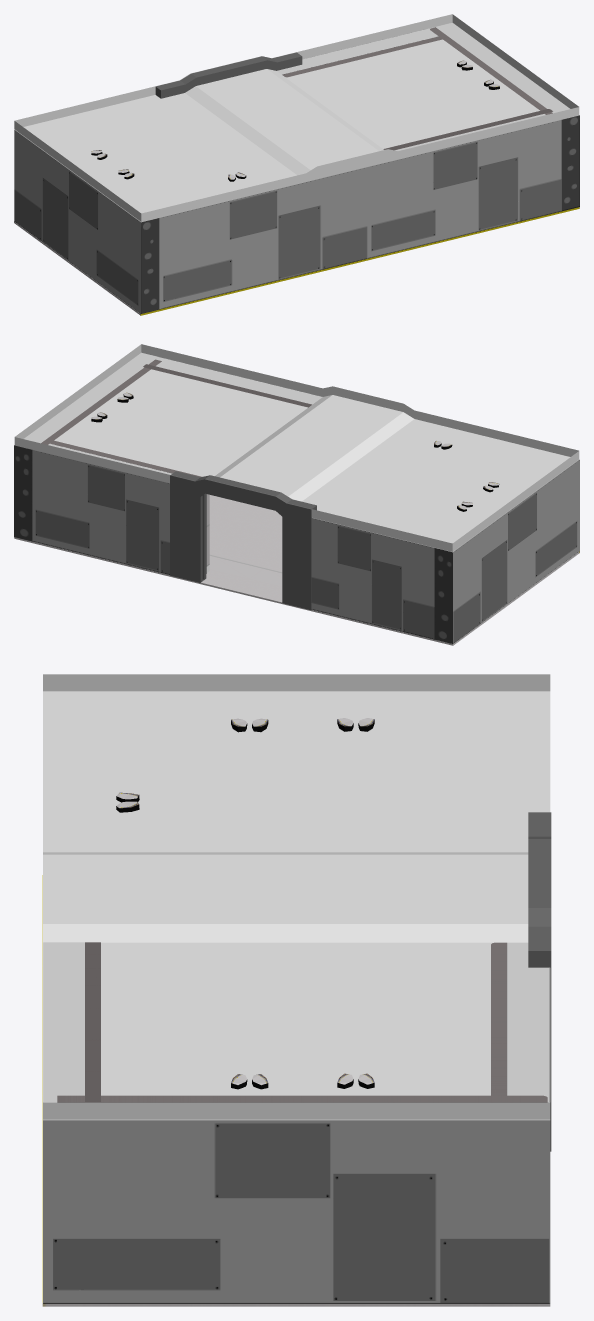
File: armory.glb
3 renders of one model, top to bottom at view 1: azimuth 30°, elevation 25°; view 2: azimuth 150°, elevation 25°; view 3: azimuth 270°, elevation 25°, orthographic. The views are drawn at different scales.
Parts seen in each view (by area): view 1: ceiling.004, Cube.067, Cube.069, Cube.031, Cube.047, door.001, Cube.063, Cube.049, Cube.060, Cube.068, Cube.062; view 2: ceiling.004, Cube.031, Cube.063, Cube.065, door.001, Cube.049, Cube.047, Cube.069, Cube.062, Cube.060, Cube.068; view 3: ceiling.004, Cube.047, Cube.069, Cube.063, door.001, Cube.060, Cube.068, Cube.049, Cube.062.
Part boxes in pixels (box(x1,y1,x2,y2)): ceiling.004: box(14, 14, 579, 221); Cube.067: box(159, 167, 367, 309); Cube.069: box(367, 114, 561, 258); Cube.031: box(14, 129, 159, 313); Cube.047: box(435, 22, 579, 211); door.001: box(155, 52, 302, 98); Cube.063: box(277, 27, 438, 74); Cube.049: box(14, 207, 579, 315); Cube.060: box(430, 27, 552, 114); Cube.068: box(383, 109, 552, 150); Cube.062: box(282, 35, 448, 77); ceiling.004: box(14, 344, 579, 551); Cube.031: box(434, 459, 579, 643); Cube.063: box(32, 444, 206, 574); Cube.065: box(311, 518, 434, 639); door.001: box(170, 471, 316, 610); Cube.049: box(14, 495, 579, 645); Cube.047: box(14, 353, 158, 541); Cube.069: box(156, 357, 322, 404); Cube.062: box(43, 439, 209, 572); Cube.060: box(41, 359, 161, 444); Cube.068: box(143, 364, 311, 407); ceiling.004: box(43, 674, 550, 1119); Cube.047: box(43, 1102, 550, 1303); Cube.069: box(43, 942, 84, 1102); Cube.063: box(507, 942, 549, 1102); door.001: box(528, 812, 551, 1151); Cube.060: box(57, 1095, 547, 1102); Cube.068: box(85, 942, 100, 1102); Cube.049: box(42, 875, 550, 1306); Cube.062: box(491, 942, 506, 1096).
Bounding box in the file's own units: 12.4 × 2.87 × 6.21.
12 materials, 4 textured.
